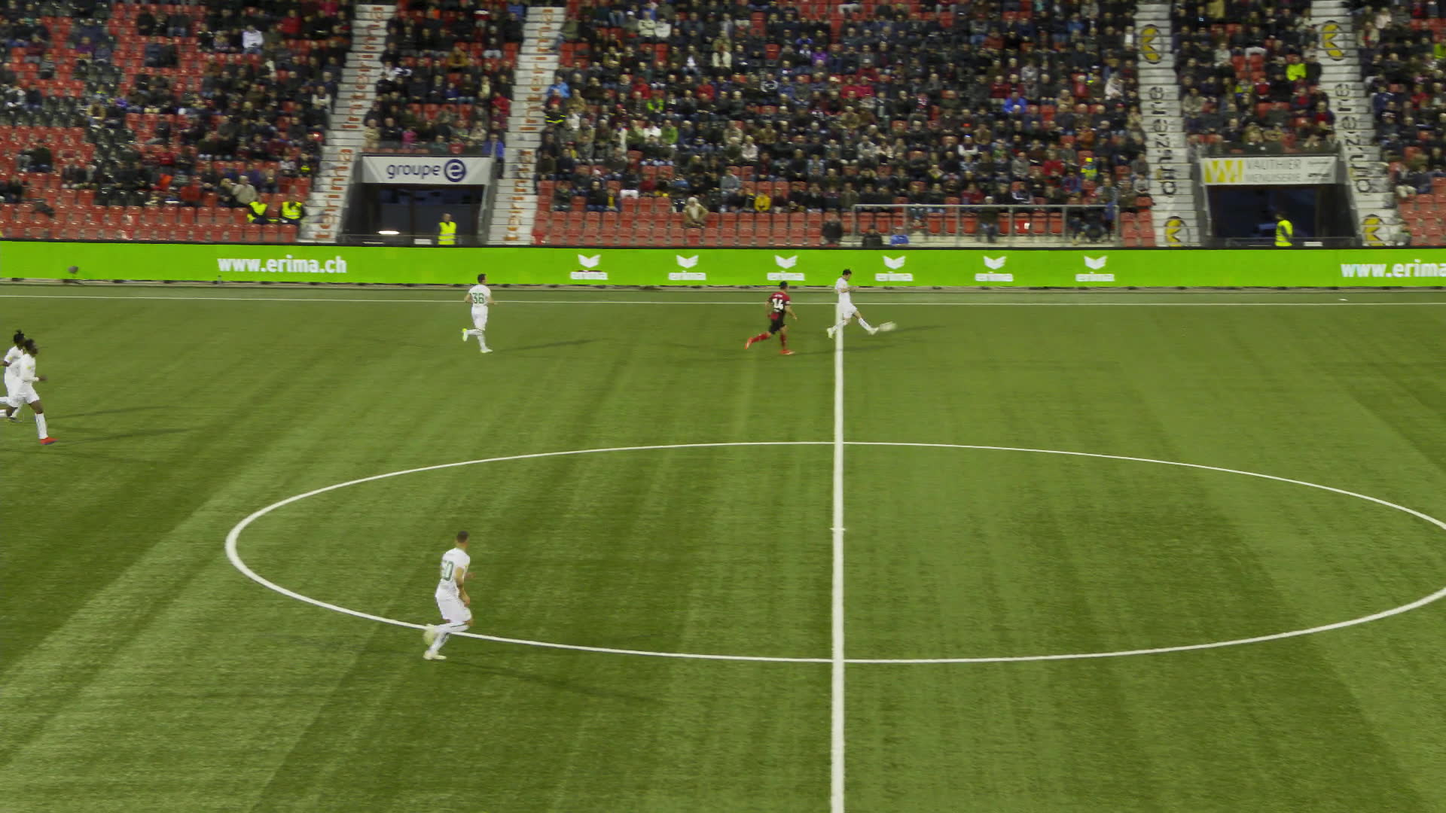ball: (877, 324, 889, 334)
player: (410, 528, 479, 658), (0, 340, 49, 444), (746, 282, 795, 357), (822, 268, 871, 340), (464, 274, 496, 356), (0, 329, 26, 418)
